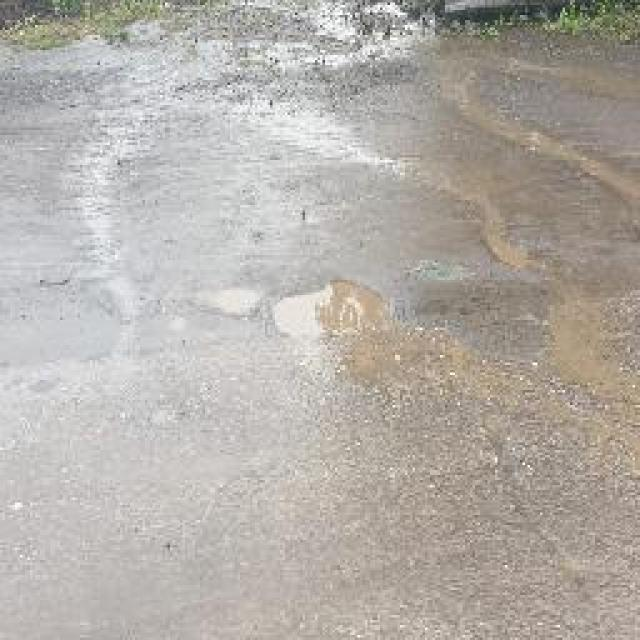puddle: (266, 272, 469, 389)
